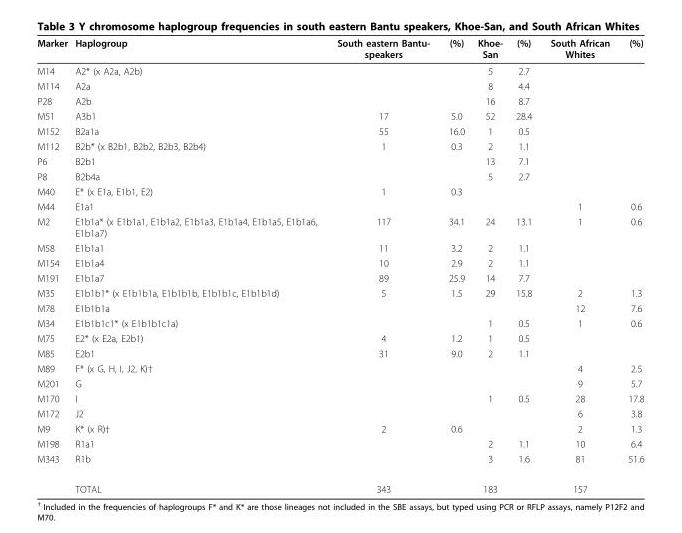table: (36, 36, 643, 494)
table column: (70, 36, 326, 494), (326, 36, 438, 494), (540, 36, 618, 494), (470, 36, 508, 494), (36, 36, 70, 494), (438, 36, 470, 494), (508, 36, 540, 494), (618, 36, 643, 494)
table column header: (36, 36, 643, 62)
table row: (36, 213, 643, 240), (36, 36, 643, 62), (36, 450, 643, 473), (36, 473, 643, 494), (36, 62, 643, 78), (36, 78, 643, 93), (36, 93, 643, 108), (36, 108, 643, 123), (36, 123, 643, 138), (36, 138, 643, 153), (36, 153, 643, 168), (36, 168, 643, 183), (36, 183, 643, 198), (36, 198, 643, 213), (36, 240, 643, 255), (36, 255, 643, 270), (36, 270, 643, 285), (36, 285, 643, 300), (36, 300, 643, 315), (36, 315, 643, 330), (36, 330, 643, 345), (36, 345, 643, 360), (36, 360, 643, 375), (36, 375, 643, 390), (36, 390, 643, 405), (36, 405, 643, 420), (36, 420, 643, 435), (36, 435, 643, 450)
table spanning cell: (36, 450, 70, 494)
